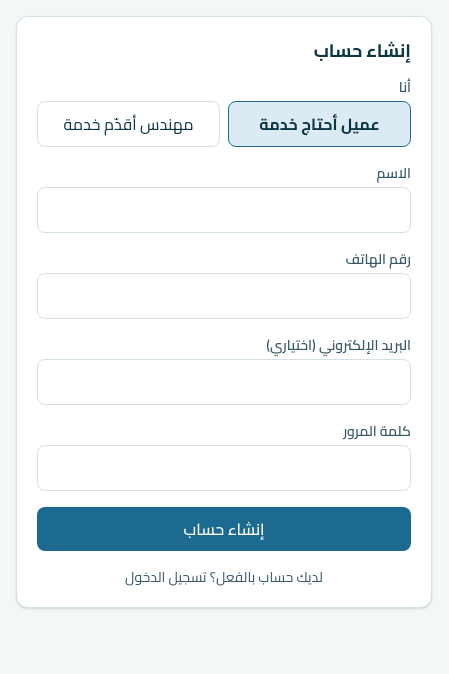
Test case: register page › shows field-level Arabic messages from a validation error
The image size is (449, 674).
Click the button "إنشاء حساب" at (224, 529), box [37, 507, 411, 551]
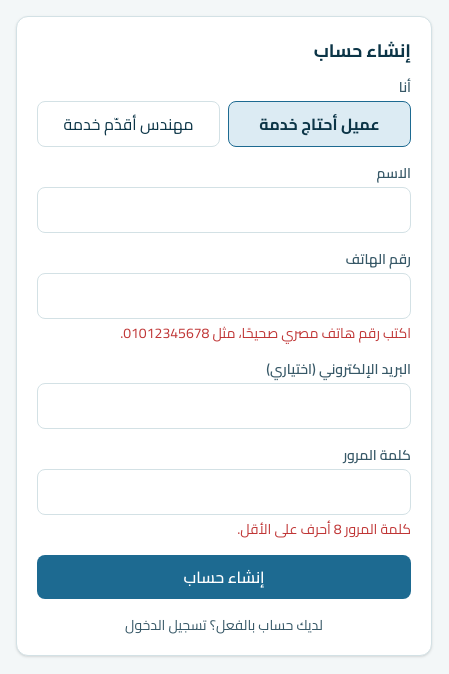
Check: the text "اكتب رقم هاتف مصري صحيحًا، مثل 01012345678." is shown, box [120, 320, 411, 346]
Check: the text "كلمة المرور 8 أحرف على الأقل." is shown, box [237, 516, 411, 542]
